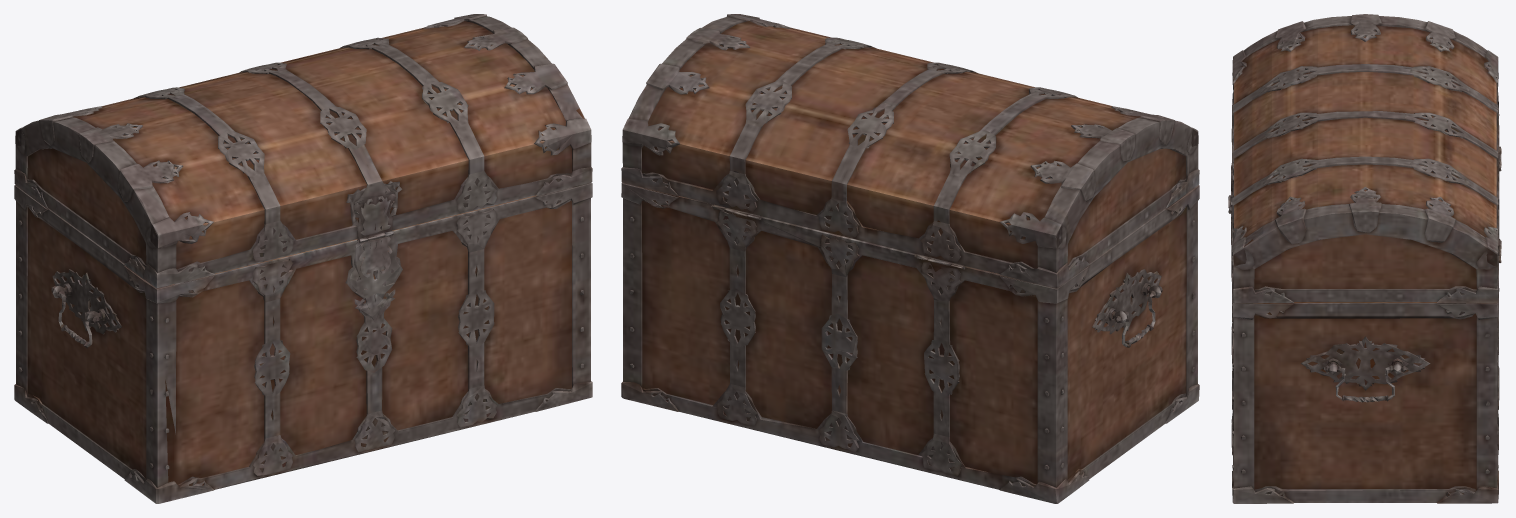
Rendered from treasure_chest.glb.
3 views of the same model, side by side, from view 1: azimuth 30°, elevation 25°; view 2: azimuth 150°, elevation 25°; view 3: azimuth 270°, elevation 25° (orthographic). The views are drawn at different scales.
Parts seen in each view (by area): view 1: treasure_chest_bottom; view 2: treasure_chest_bottom; view 3: treasure_chest_bottom.
Boxes of the visible parts, x1,y1,x2,y2 form: treasure_chest_bottom: [14, 14, 592, 503]; treasure_chest_bottom: [621, 14, 1199, 503]; treasure_chest_bottom: [1228, 14, 1501, 503].
Size of the model in its own units: 0.959 by 0.6177 by 0.5223.
Materials: 1 (1 with a texture image).
